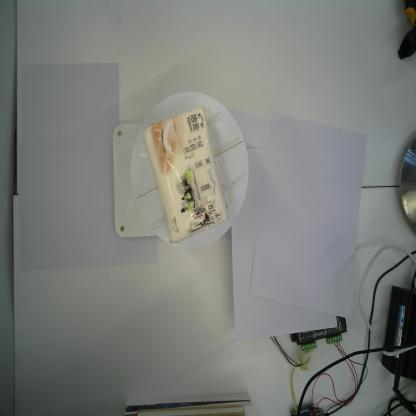Tissue: (143, 106, 227, 244)
